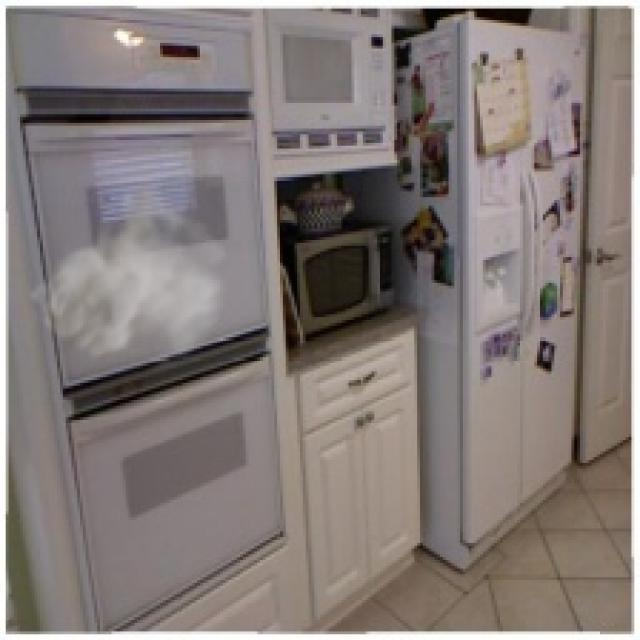Smoke: (26, 171, 234, 380)
